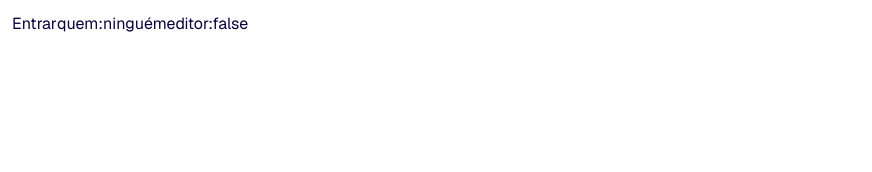
Scenario: AuthProvider › reports an unexpected POST session-sync failure without exposing its message
Click the button "Entrar".
click(34, 24)  # box [12, 12, 57, 36]
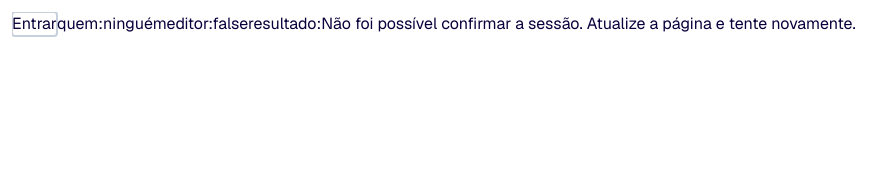
expect the text "resultado:Não foi possível confirmar a sessão. Atualize a página e tente novamente." is shown: met, box [248, 13, 856, 34]
